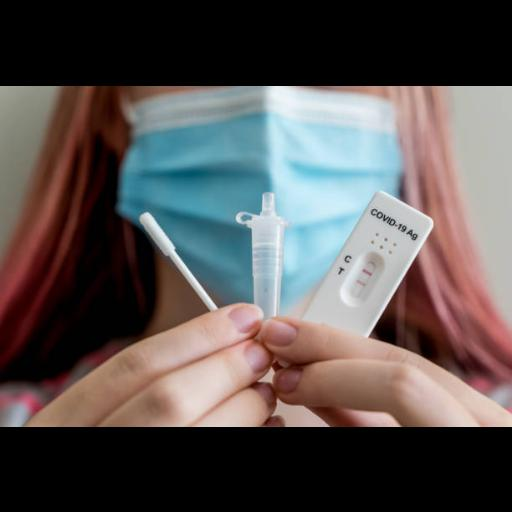Pos: (307, 190, 433, 336)
